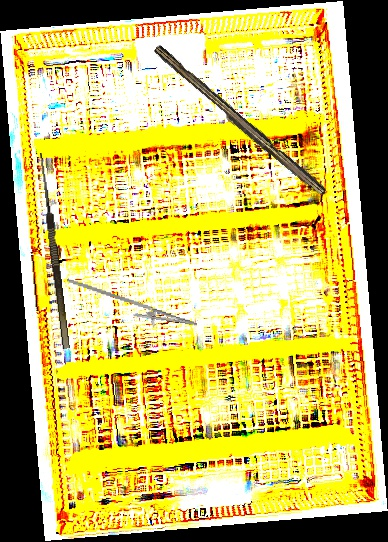Hook Surgical: (28, 152, 70, 351)
Needle Holder: (61, 278, 201, 336)
Scalpel Handle: (148, 44, 331, 200)
